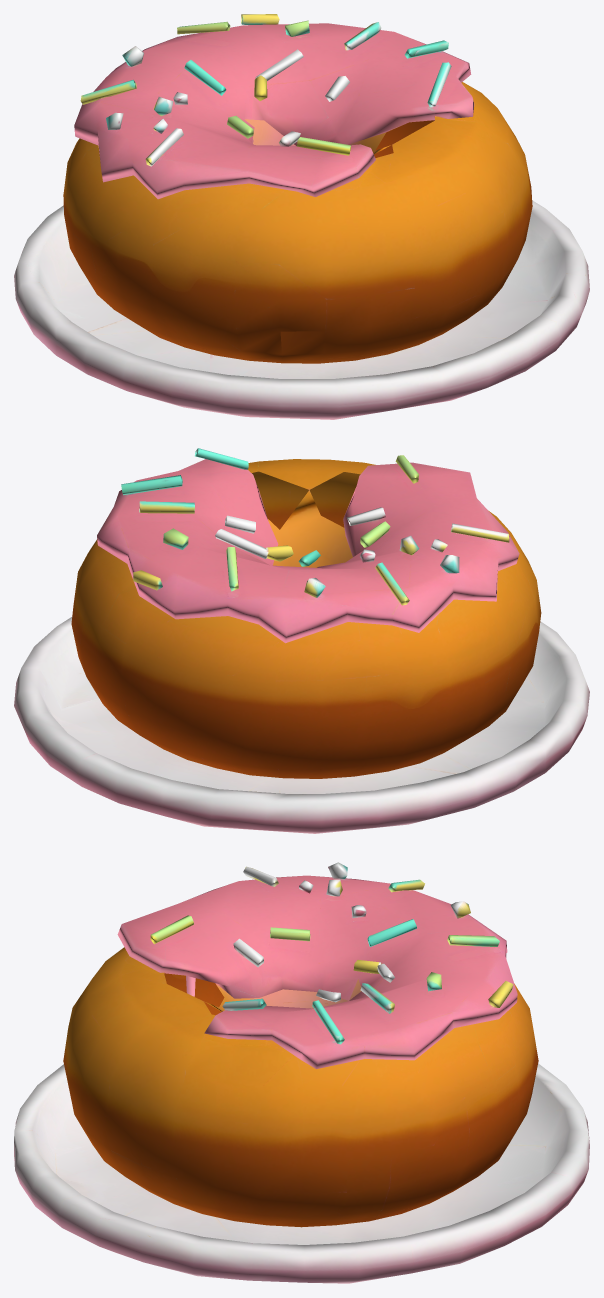
File: food_donut.glb
3 renders of one model, top to bottom at view 1: azimuth 30°, elevation 25°; view 2: azimuth 150°, elevation 25°; view 3: azimuth 270°, elevation 25°, orthographic.
Size of the model in its own units: 1 by 0.4515 by 1.
1 material, 1 textured.
